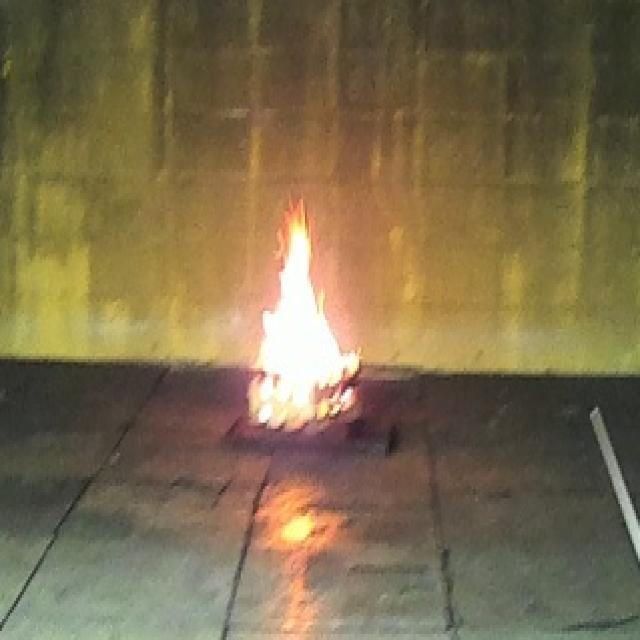Fire: (248, 194, 362, 432)
